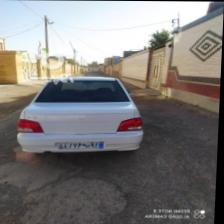plate: (57, 141, 109, 149)
